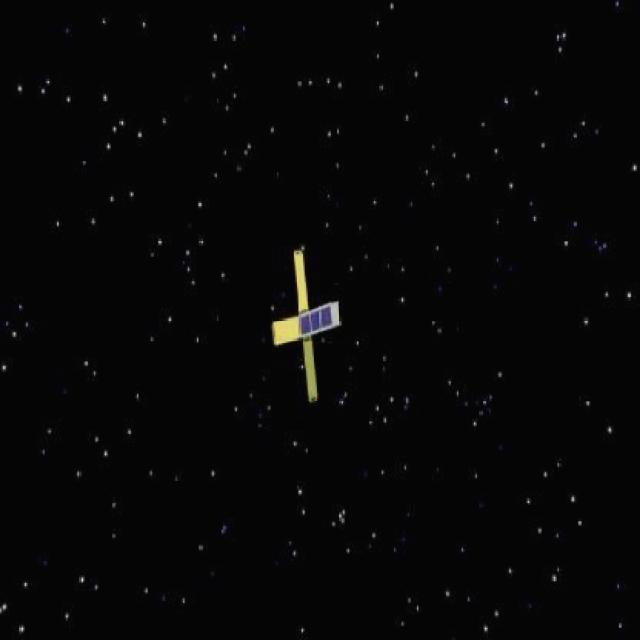medium_debris: (253, 246, 359, 414)
